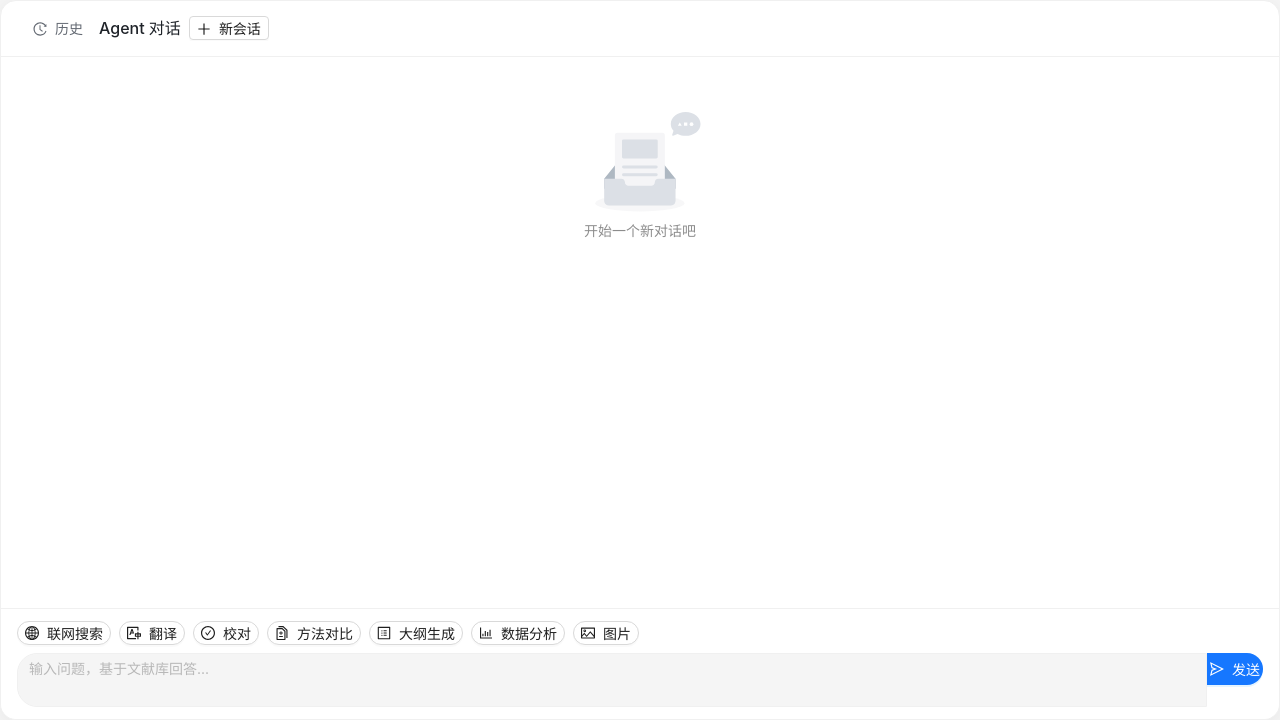
Test: ChatPanel operation lifecycle › 对话 POST 失败时不自动重放非幂等请求
Type "不应重放" into the text box with placeholder "输入问题，基于文献库回答...".
click(612, 680); type("不应重放")  # box [17, 653, 1207, 707]
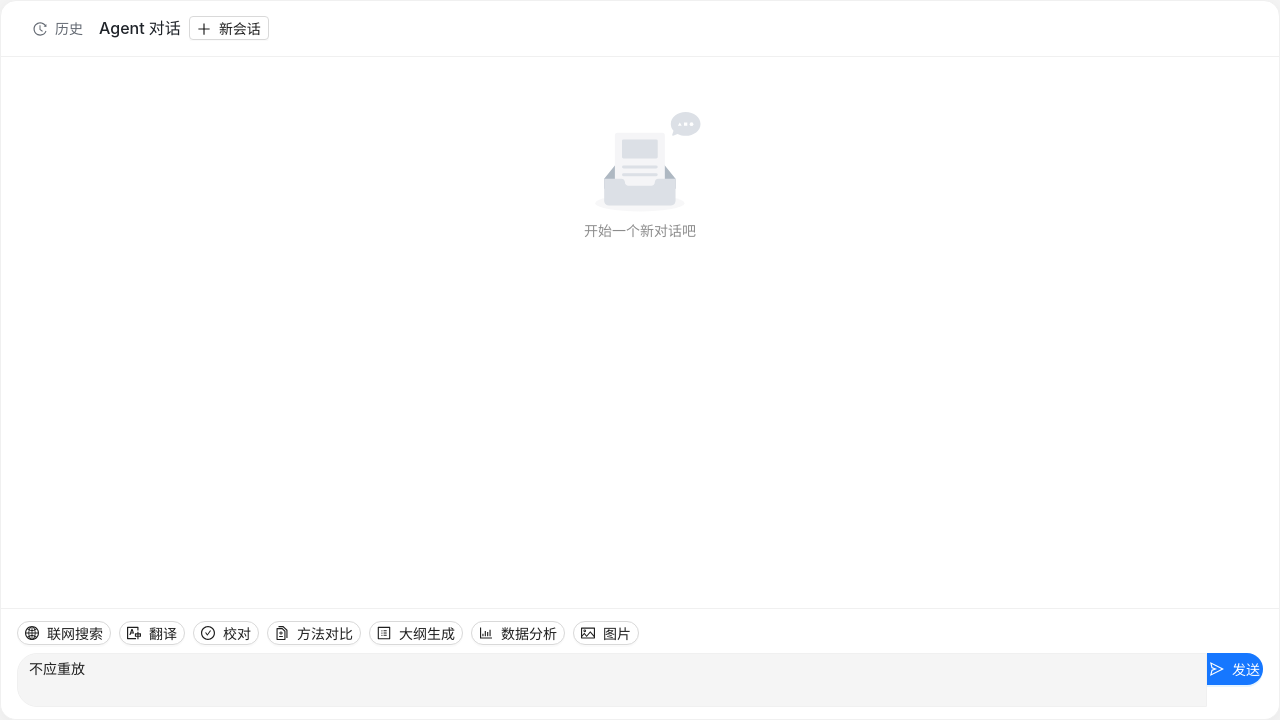
Click the button "发送".
click(1235, 669)  # box [1207, 653, 1263, 685]
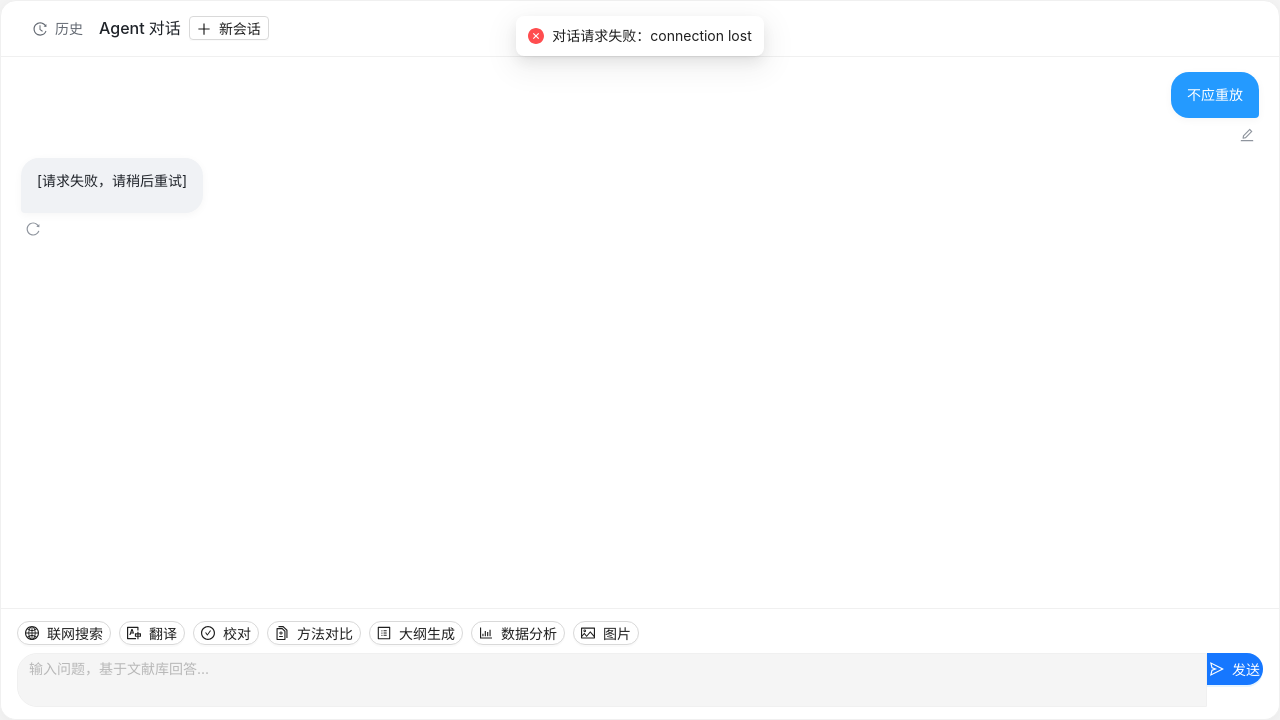
Expected: the text "[请求失败，请稍后重试]" is shown, [37, 170, 187, 193]
